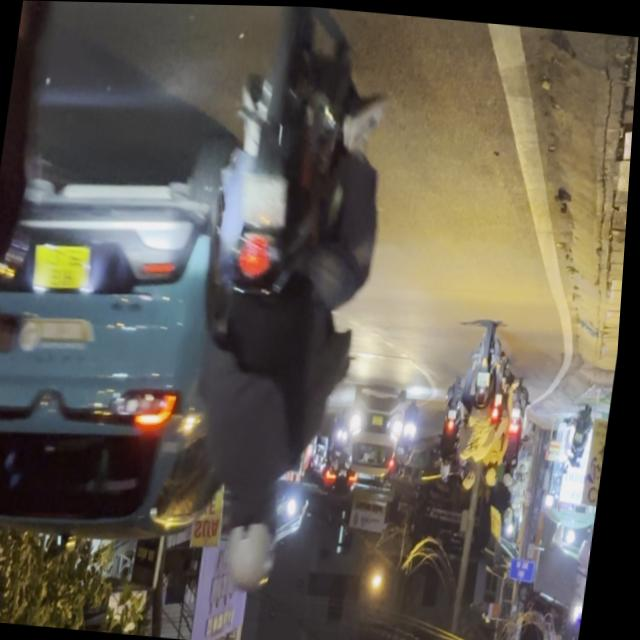helmet: (221, 480, 290, 591)
licenseplate: (159, 3, 409, 603), (0, 0, 78, 610)
nohelmet: (239, 174, 291, 227)
